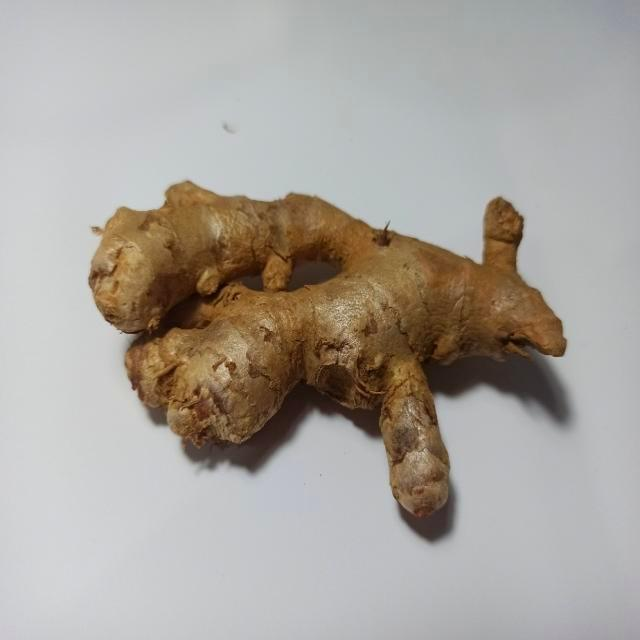ginger: (95, 196, 568, 524)
